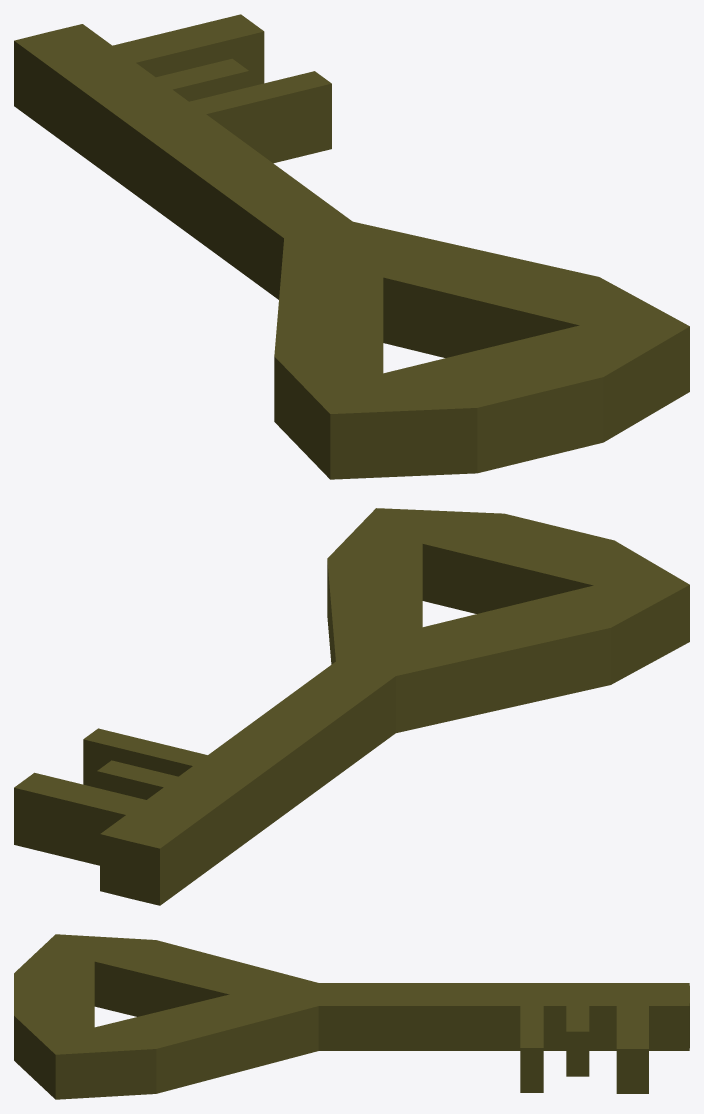
The model's file is KeyPickup.fbx.
3 views of the same model, one above another, from view 1: azimuth 30°, elevation 25°; view 2: azimuth 150°, elevation 25°; view 3: azimuth 270°, elevation 25° (orthographic). The views are drawn at different scales.
Visible parts, largest first — view 1: Cylinder; view 2: Cylinder; view 3: Cylinder.
Boxes of the visible parts, x1,y1,x2,y2 form: Cylinder: (14, 14, 689, 479); Cylinder: (14, 508, 689, 905); Cylinder: (14, 934, 689, 1099).
Bounding box in the file's own units: 35.63 × 6.2 × 84.45.
